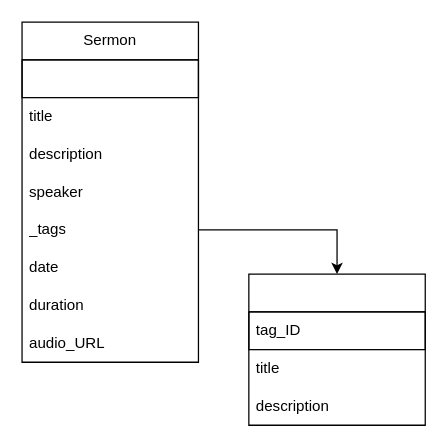
This 447x447 diagram has some shape labels left out. The box of each missing label's shape, as (x1, y1, x2, y2) in pixels:
sermon_ID: (21, 59, 198, 98)
Tags: (248, 273, 425, 425)
